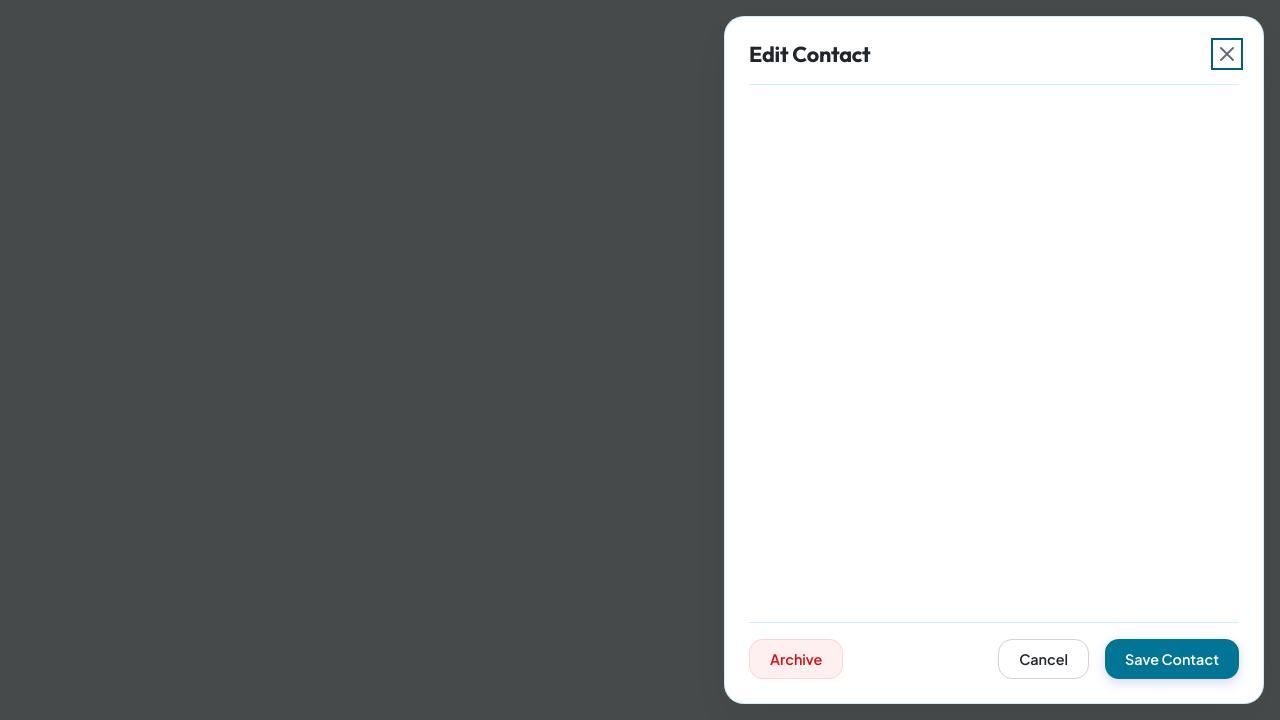
Test: ContactDrawer › archiving › keeps the dialog open and explains a failed archive
The width and height of the screenshot is (1280, 720).
Click the button with test id "archive-contact" at {"x": 796, "y": 659}, box left=749, top=639, right=844, bottom=679
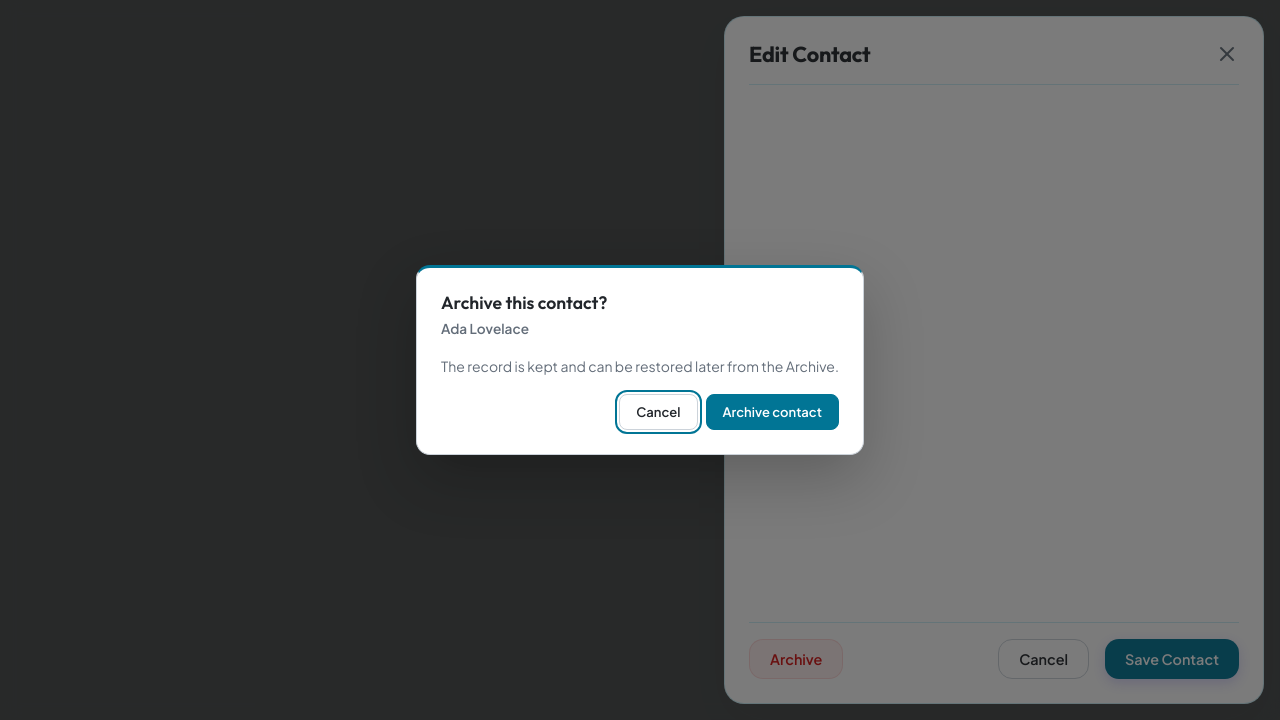
Click the button with test id "confirm-dialog-confirm" at {"x": 772, "y": 412}, box left=706, top=394, right=839, bottom=430
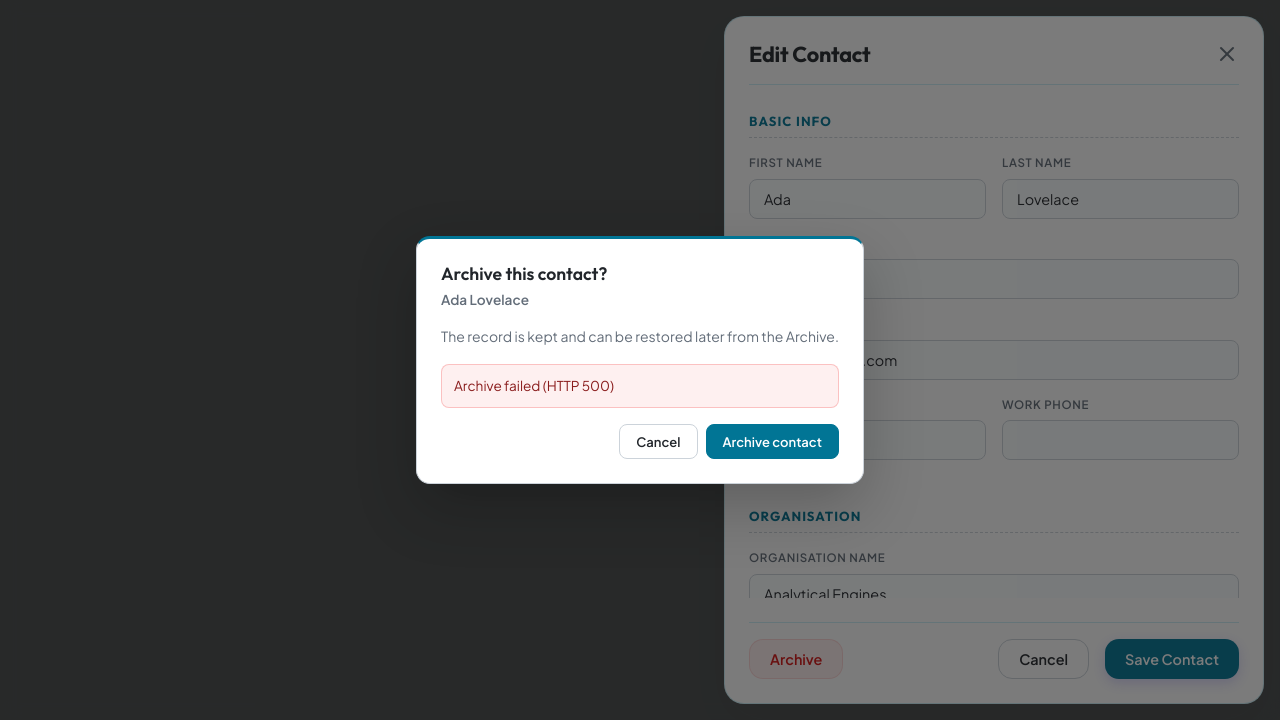
Expected: the message reads "Archive failed (HTTP 500)", left=454, top=377, right=614, bottom=394
